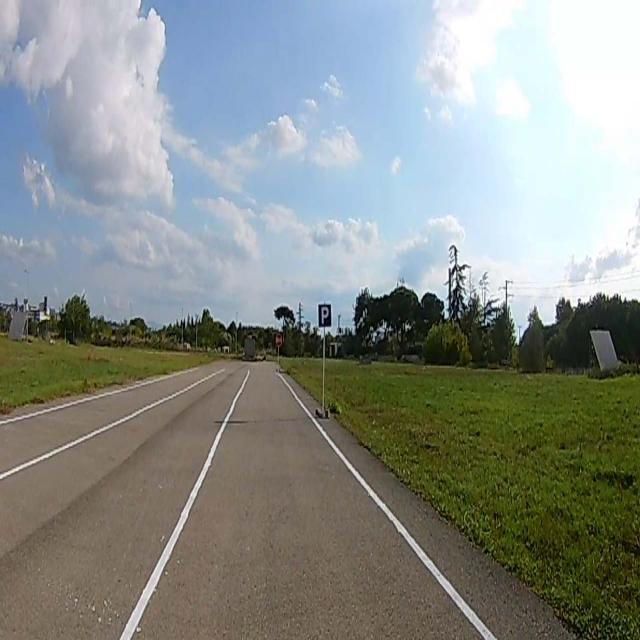park: (318, 304, 331, 326)
